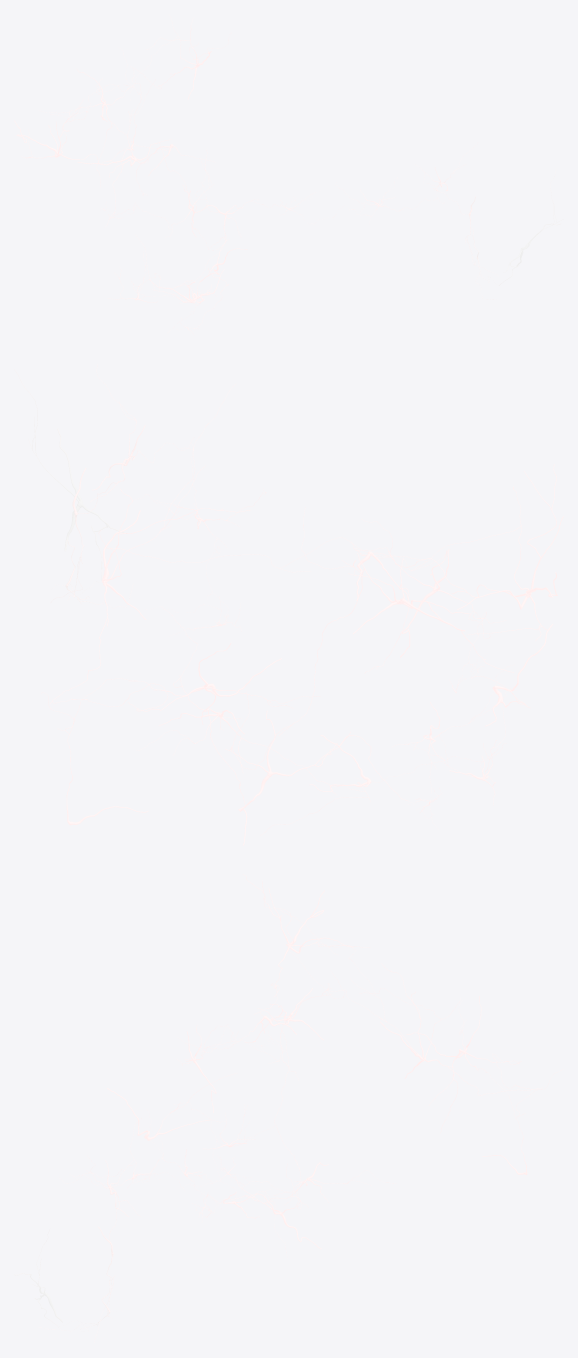
File: prop_net_02.glb
3 renders of one model, top to bottom at view 1: azimuth 30°, elevation 25°; view 2: azimuth 150°, elevation 25°; view 3: azimuth 270°, elevation 25°, orthographic. The views are drawn at different scales.
Visible parts, largest first — view 1: neural_net; view 2: neural_net; view 3: neural_net.
Part boxes in pixels (left/top/right/bottom): neural_net: left=14, top=15, right=563, bottom=334; neural_net: left=14, top=364, right=563, bottom=845; neural_net: left=14, top=874, right=563, bottom=1342.
Size of the model in its own units: 10.9 by 6.33 by 9.94.
